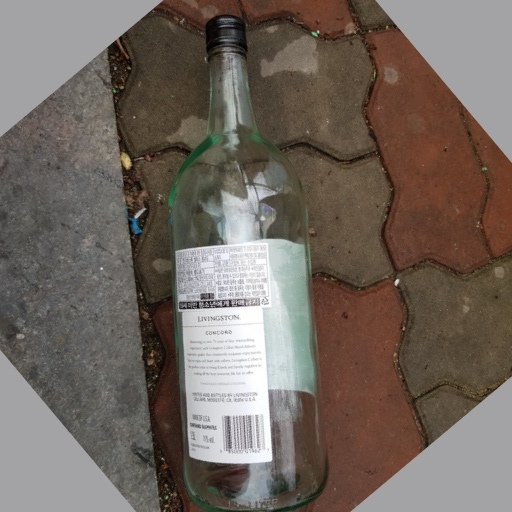Glass_2: (163, 13, 326, 510)
